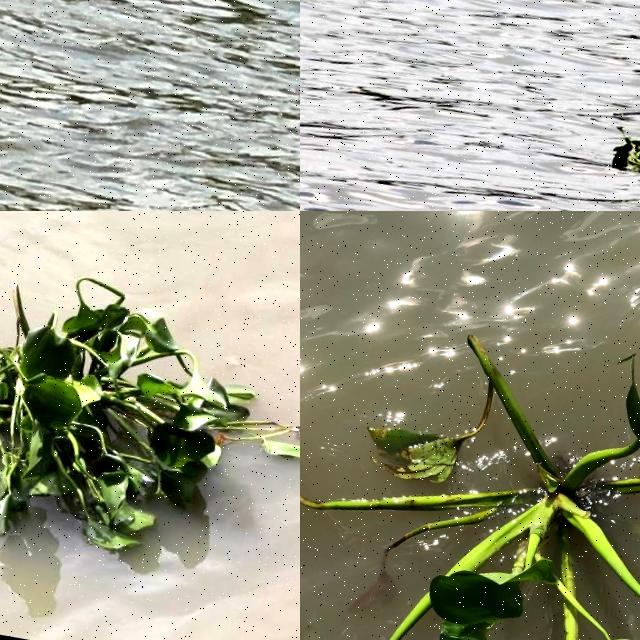water-hyacinth: (301, 260, 640, 640), (1, 242, 301, 610)
